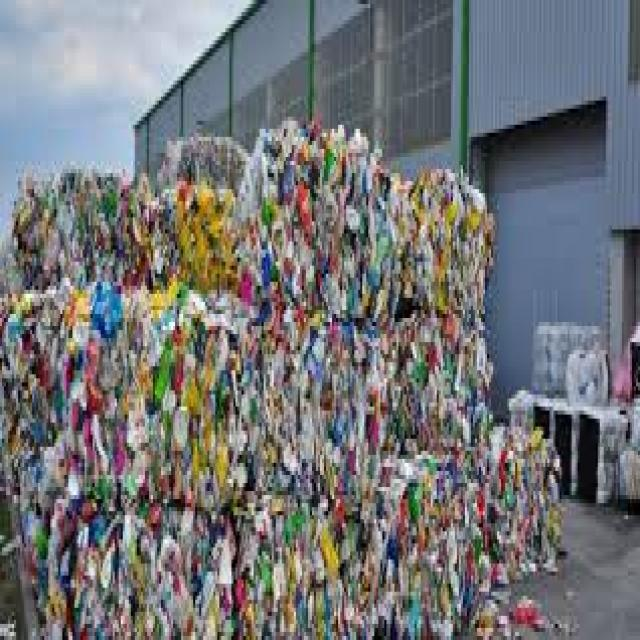heap: (118, 271, 494, 621)
